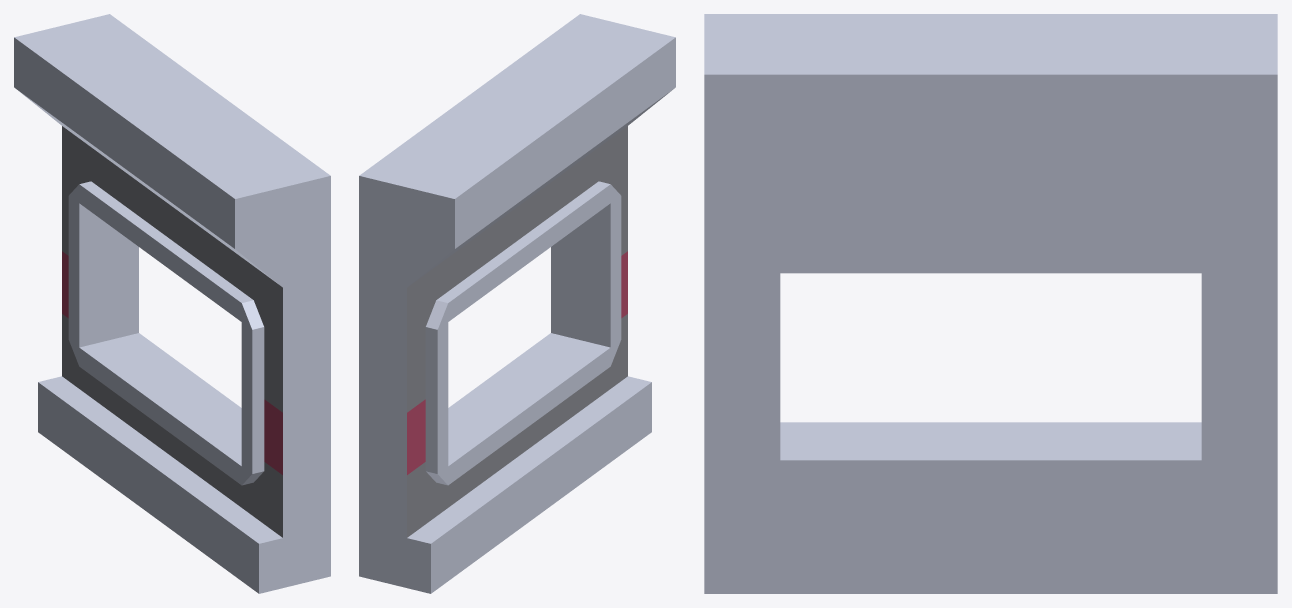
3 renders of one model, left to right at view 1: azimuth 30°, elevation 25°; view 2: azimuth 150°, elevation 25°; view 3: azimuth 270°, elevation 25°, orthographic. The views are drawn at different scales.
Parts seen in each view (by area): view 1: object_008; view 2: object_008; view 3: object_008.
Part boxes in pixels (x1,y1,x2,y2): object_008: (14,14,330,593); object_008: (359,14,675,593); object_008: (704,14,1277,593).
Size of the model in its own units: 0.25 by 1 by 1.
